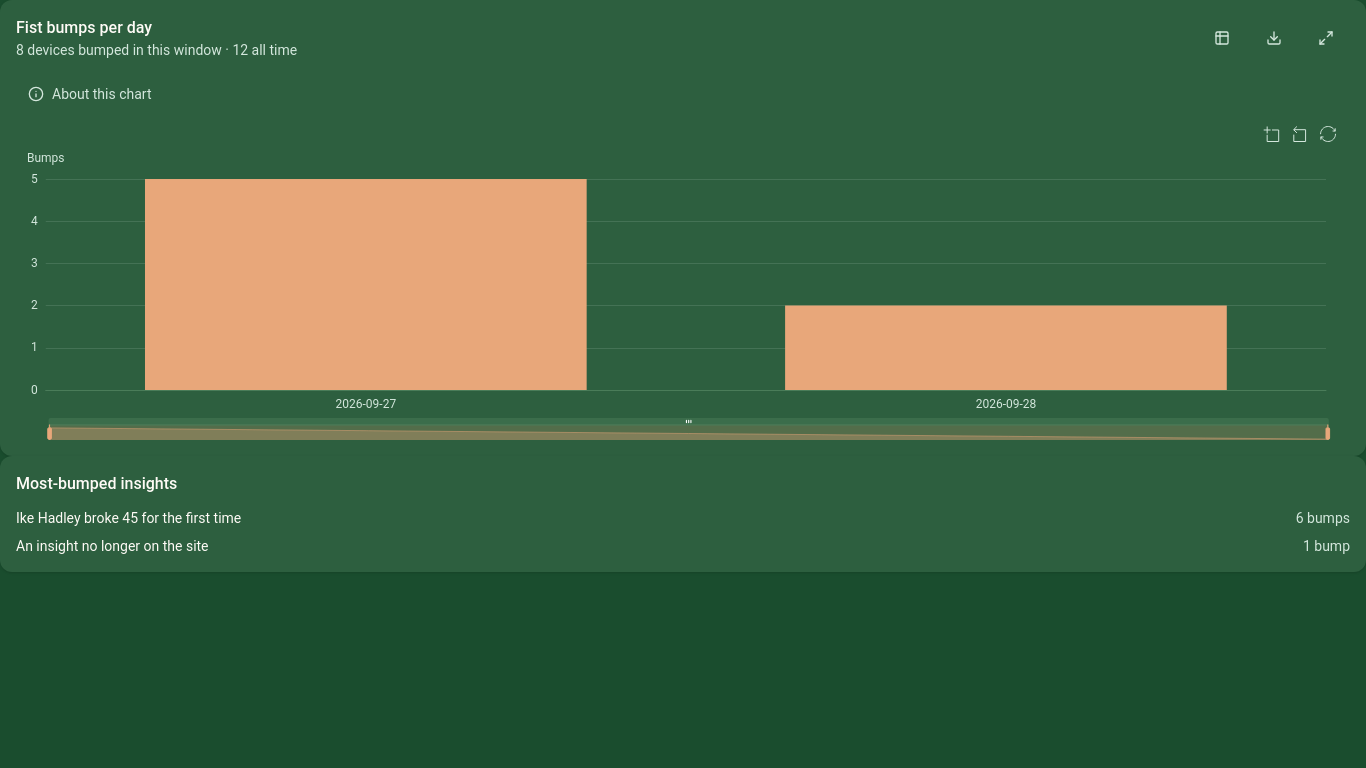
Test case: BumpsCard › charts bumps per day, says how many devices bumped and lists the most-bumped insights
Expected: the button named "Table" is shown, x1=1198 y1=16 x2=1246 y2=60
Expected: the button named "CSV" is shown, x1=1250 y1=16 x2=1298 y2=60
Click the button "About this chart" at point(90, 94), box x1=16 y1=72 x2=164 y2=116
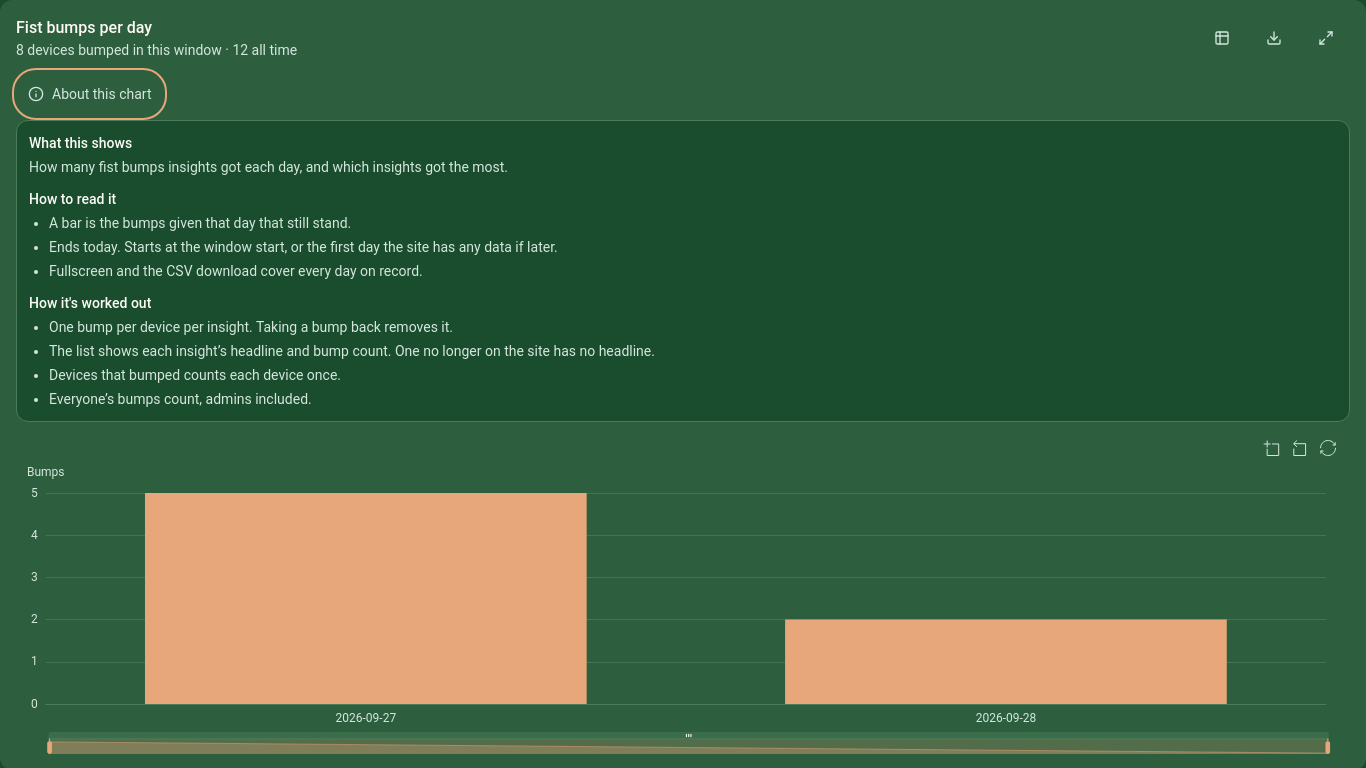
Result: the button "About this chart" is expanded
Result: the heading "What this shows" is shown at x1=29 y1=135 x2=132 y2=151
Result: the heading "How it's worked out" is shown at x1=29 y1=295 x2=151 y2=311
Click the button "About this chart" at point(90, 94), box x1=16 y1=72 x2=164 y2=116
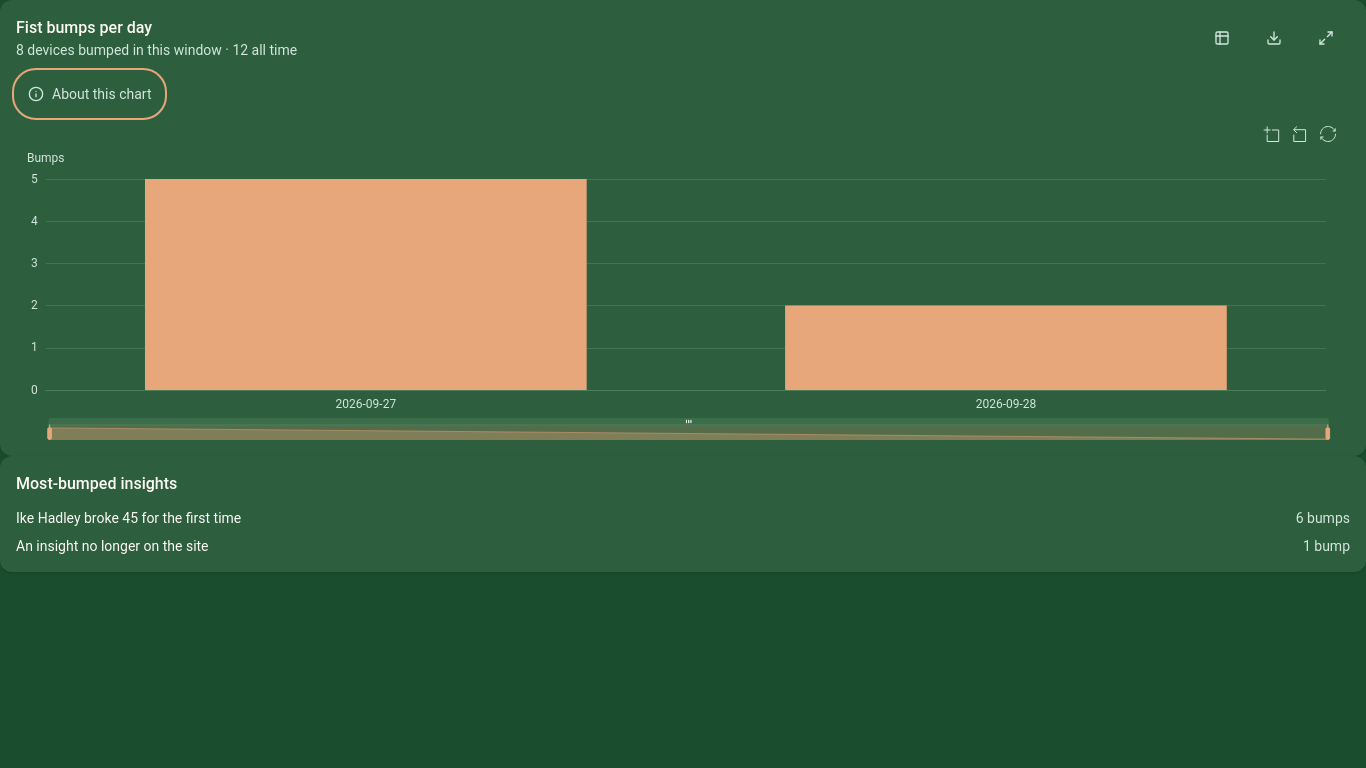
Expected: the text "8 devices bumped in this window · 12 all time" is shown, x1=16 y1=40 x2=297 y2=60
Result: the heading "What this shows" is gone
